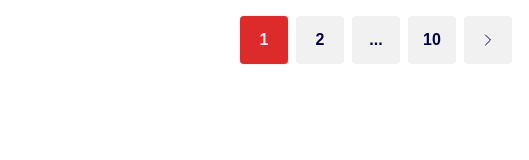
Test: <Pagination /> › Should be able to next page
Click the element with test id "nextPage": click(488, 40) [464,16,512,64]
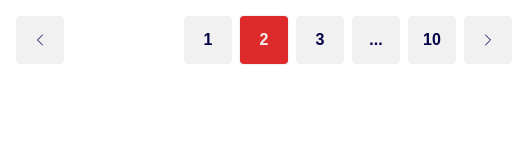
Now the text "1" is shown once, box [184,16,232,64]
Now the text "2" is shown once, box [240,16,288,64]
Now the text "3" is shown once, box [296,16,344,64]
